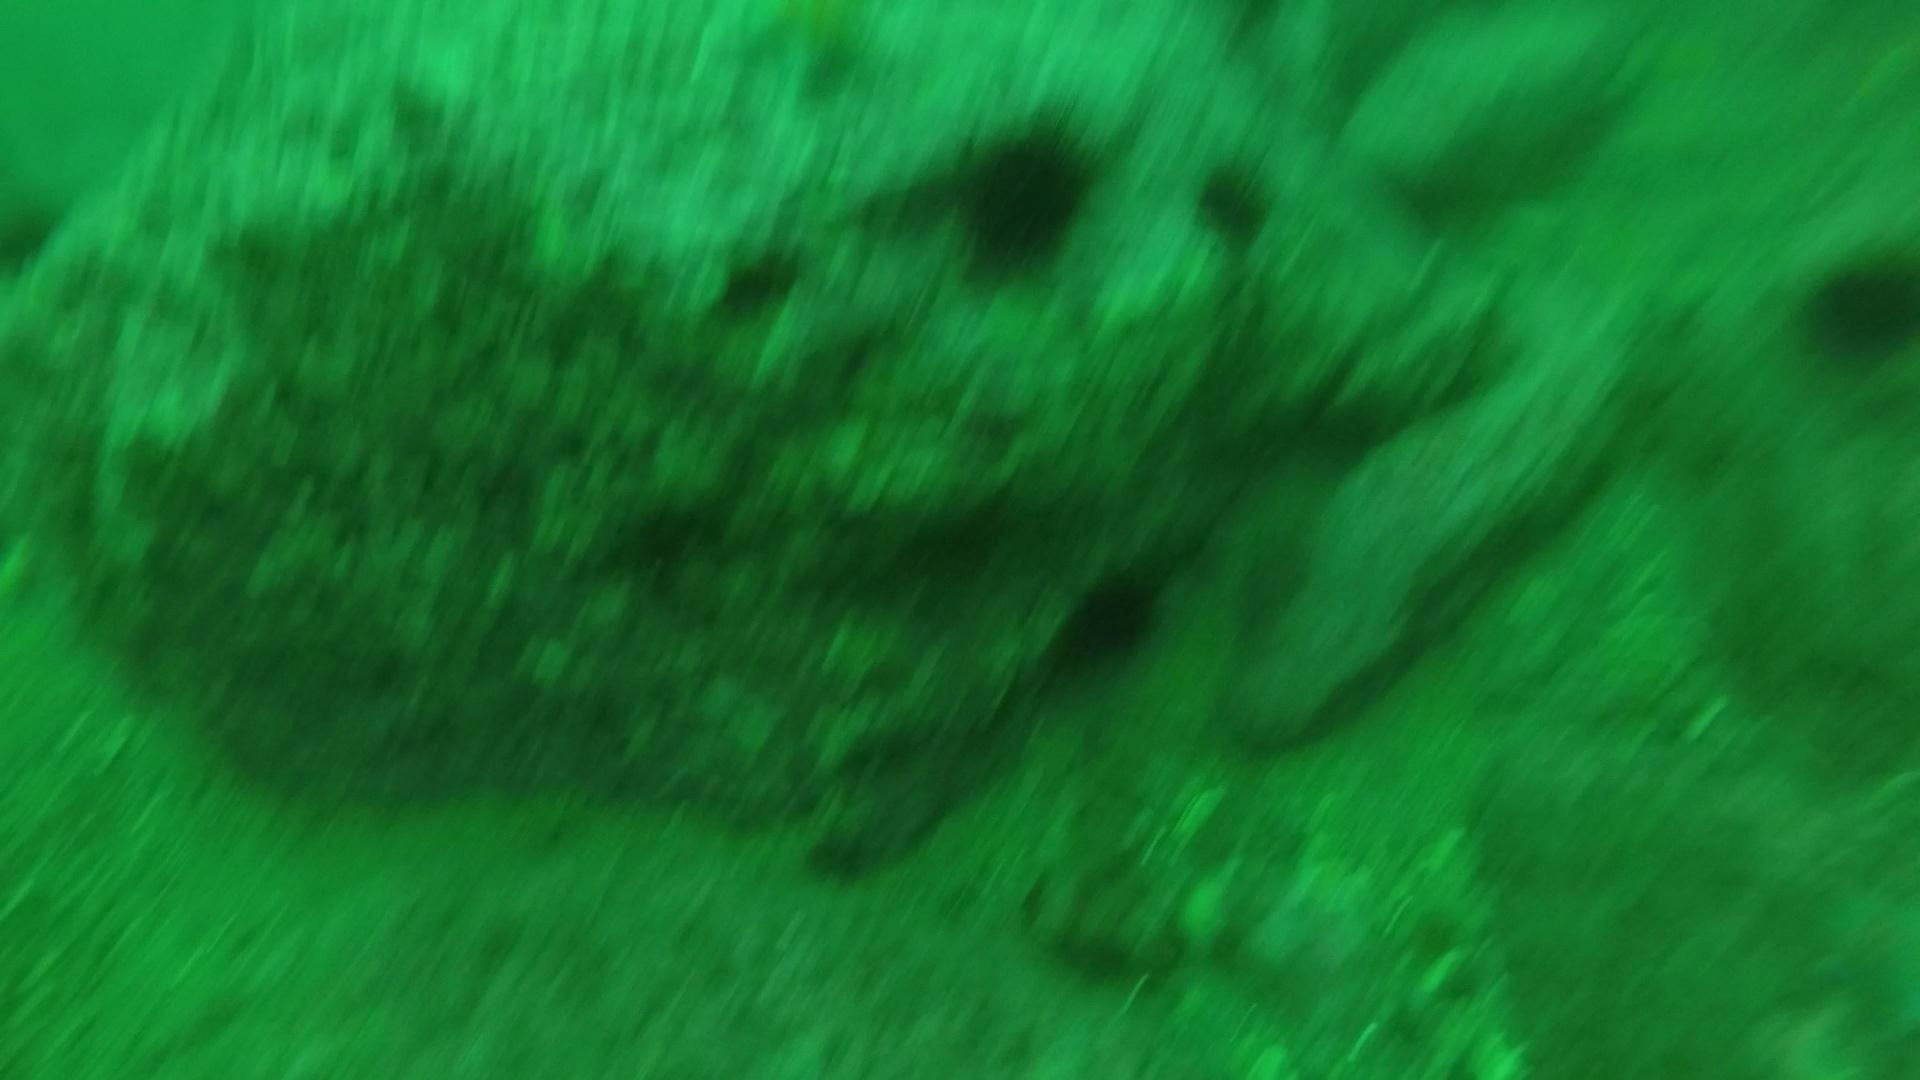echinus: (945, 113, 1105, 274), (1795, 236, 1920, 364), (1054, 564, 1168, 671), (1188, 154, 1279, 251), (0, 185, 69, 282)
starfish: (1804, 877, 1919, 1033)
